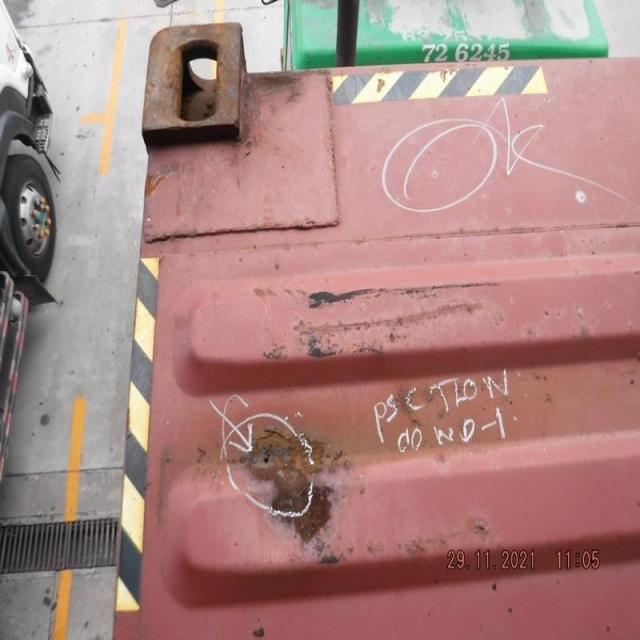rust: (241, 430, 338, 546)
